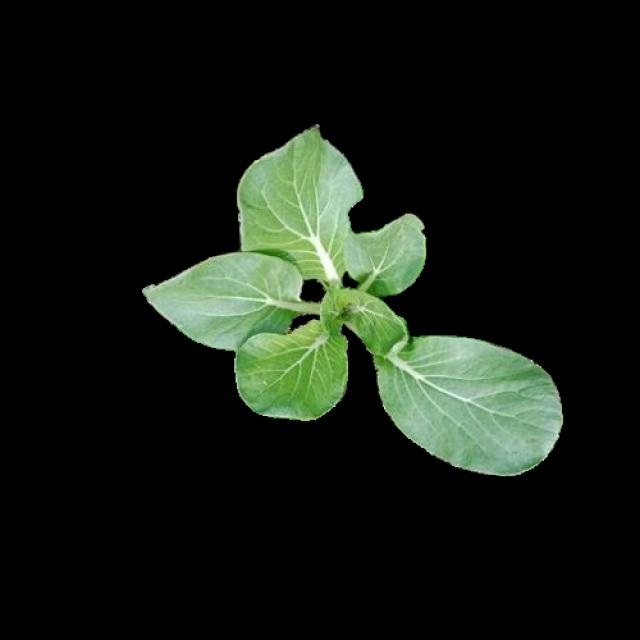healthy: (142, 120, 557, 474)
not-mature: (145, 123, 559, 476)
